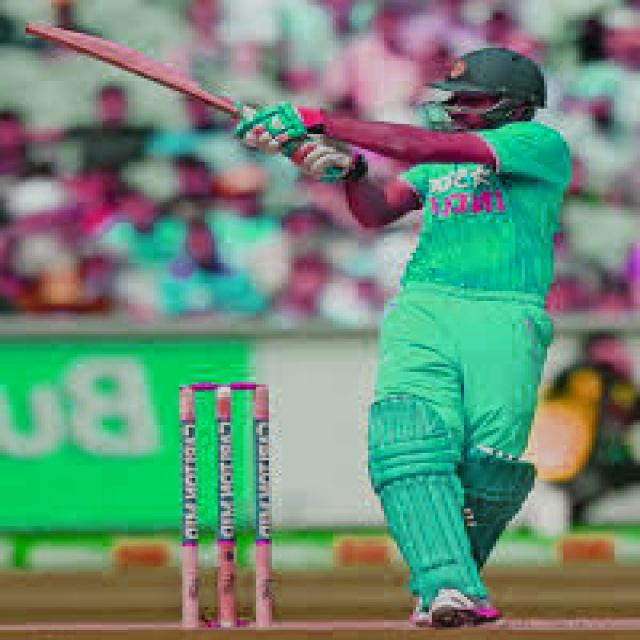toe: (8, 22, 64, 40)
